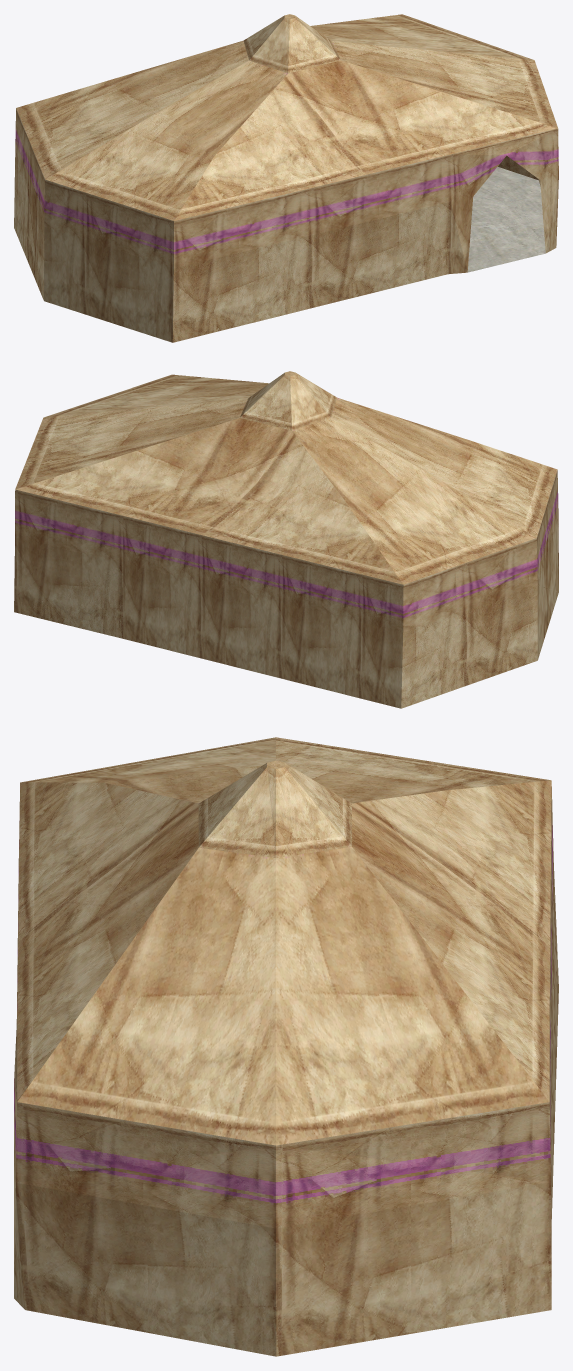
Rendered from ply_corl_idesigner_tent_s01_r1_mesh_r1.fbx.
3 views of the same model, one above another, from view 1: azimuth 30°, elevation 25°; view 2: azimuth 150°, elevation 25°; view 3: azimuth 270°, elevation 25° (orthographic). The views are drawn at different scales.
Visible parts, largest first — view 1: mesh_node; view 2: mesh_node; view 3: mesh_node.
Part boxes in pixels (bbox=[...]): mesh_node: bbox=[14, 14, 558, 342]; mesh_node: bbox=[14, 371, 558, 708]; mesh_node: bbox=[14, 737, 558, 1356].
Size of the model in its own units: 14.73 by 6.39 by 8.22.
